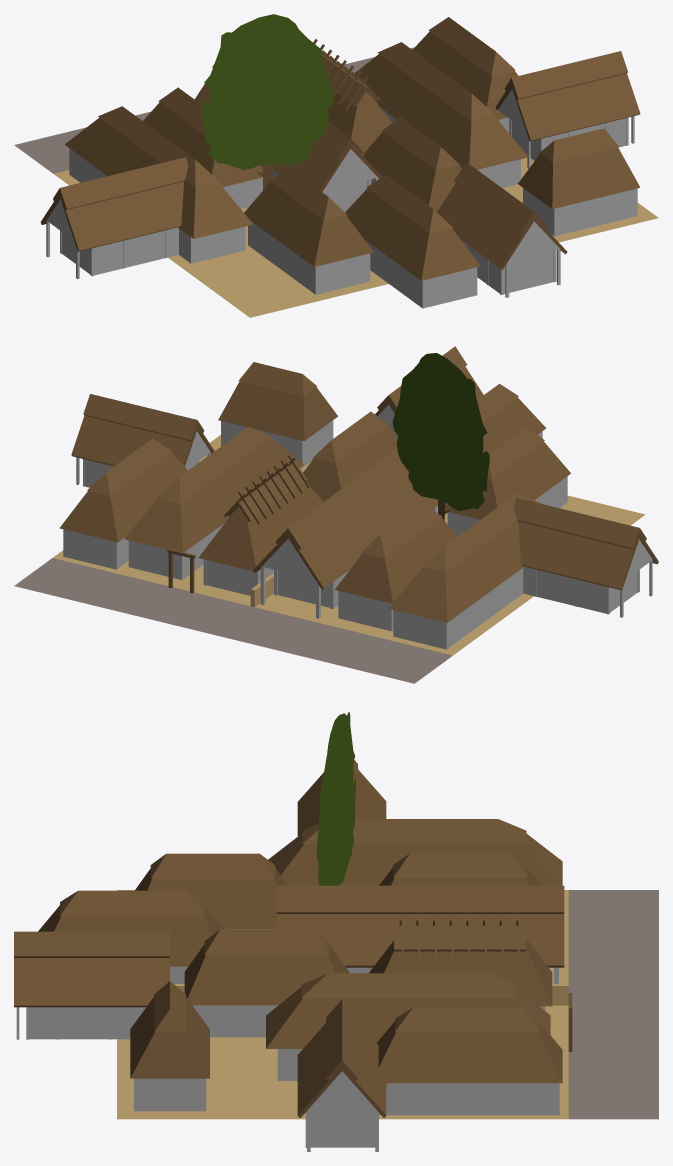
3 renders of one model, top to bottom at view 1: azimuth 30°, elevation 25°; view 2: azimuth 150°, elevation 25°; view 3: azimuth 270°, elevation 25°, orthographic. The views are drawn at different scales.
Parts seen in each view (by area): view 1: rr11; view 2: rr11; view 3: rr11.
Part boxes in pixels (x1,y1,x2,y2): rr11: [14, 14, 658, 317]; rr11: [14, 346, 658, 683]; rr11: [14, 712, 658, 1151].
Size of the model in its own units: 41.18 by 14.41 by 35.7.
